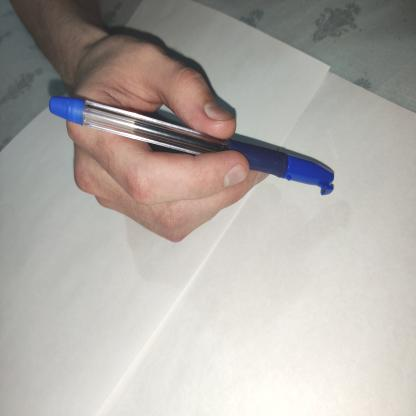pen: (41, 72, 371, 247)
